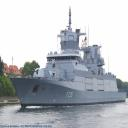Fragata: (11, 8, 128, 110)
